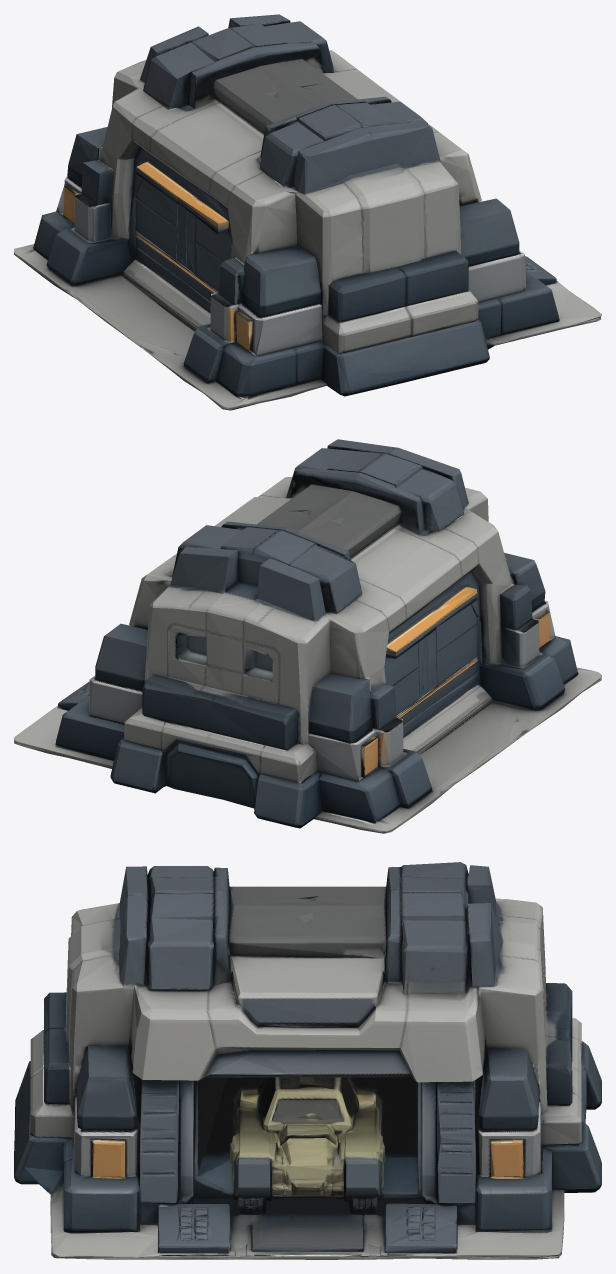
The model's file is HeavyVehicle.glb.
3 views of the same model, one above another, from view 1: azimuth 30°, elevation 25°; view 2: azimuth 150°, elevation 25°; view 3: azimuth 270°, elevation 25° (orthographic). The views are drawn at different scales.
Visible parts, largest first — view 1: tripo_node_d9d188d2-14c5-41fe-984a-e83cfb7738fd; view 2: tripo_node_d9d188d2-14c5-41fe-984a-e83cfb7738fd; view 3: tripo_node_d9d188d2-14c5-41fe-984a-e83cfb7738fd.
Boxes of the visible parts, <box> form: tripo_node_d9d188d2-14c5-41fe-984a-e83cfb7738fd: <box>14,14,601,410</box>; tripo_node_d9d188d2-14c5-41fe-984a-e83cfb7738fd: <box>14,439,601,833</box>; tripo_node_d9d188d2-14c5-41fe-984a-e83cfb7738fd: <box>14,862,601,1259</box>.
Bounding box in the file's own units: 0.8613 × 0.4641 × 0.9805.
1 material, 1 textured.
